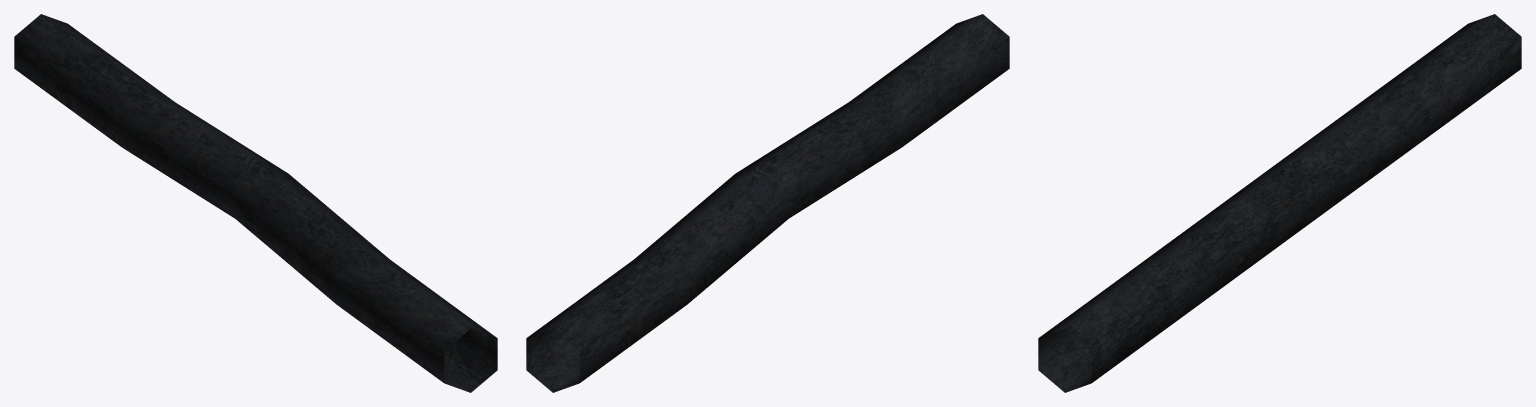
File: cable_thick_long.dae
3 views of the same model, side by side, from view 1: azimuth 30°, elevation 25°; view 2: azimuth 150°, elevation 25°; view 3: azimuth 330°, elevation 25° (orthographic).
Visible parts, largest first — view 1: cable_thick_long; view 2: cable_thick_long; view 3: cable_thick_long.
Part boxes in pixels (<box>): cable_thick_long: <box>14,14,497,392</box>; cable_thick_long: <box>526,14,1009,392</box>; cable_thick_long: <box>1038,14,1521,392</box>.
Bounding box in the file's own units: 15.9 × 18.04 × 200.
